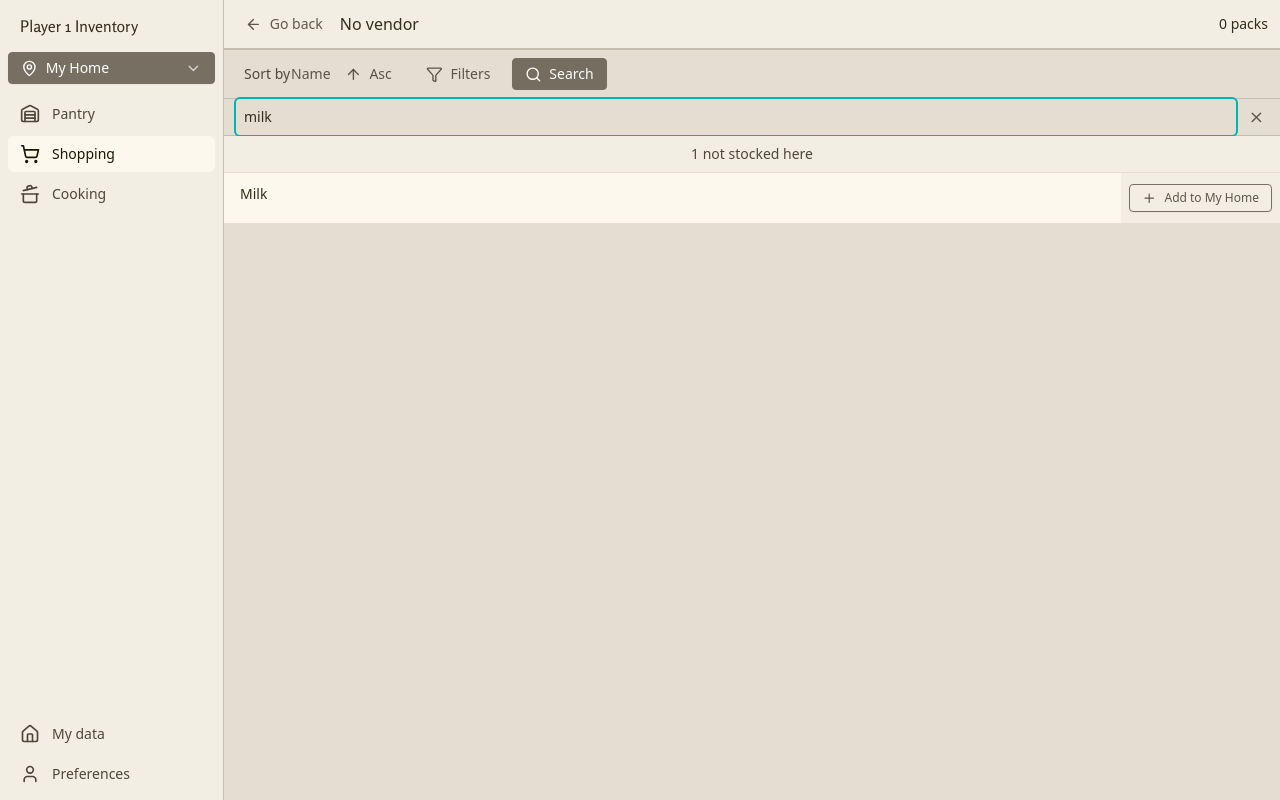
Scenario: Vendor cart page › search tail (unified item search) › user can stock a VENDORED item from the no-vendor cart and it lands in the not-in-this-list section
This screenshot has width=1280, height=800.
What coordinates should you click on to do the following:
click the button with aria-label "Add to My Home: Milk"
I would click on:
 (1201, 198)
Its box is [1129,184,1272,212].
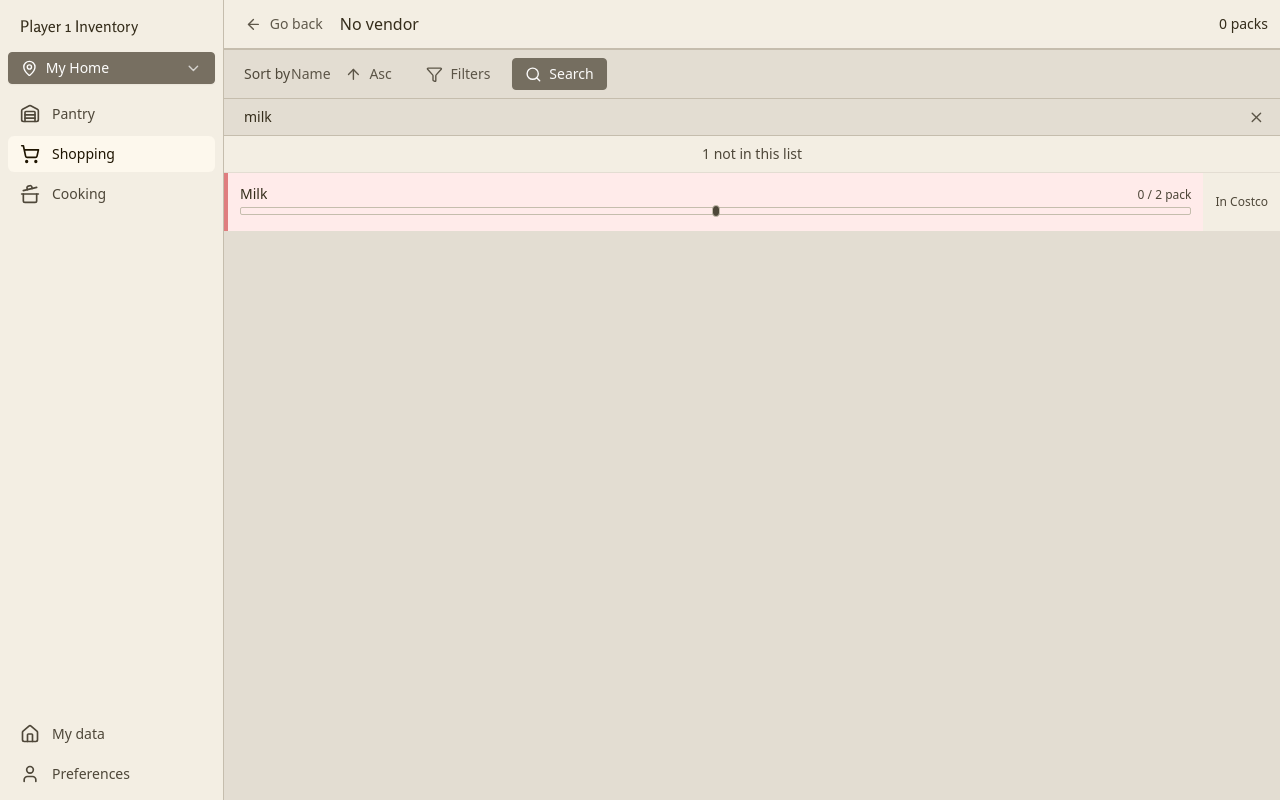
Result: the text "1 not in this list" is shown at [224,136,1279,172]
Result: the text "In Costco" is shown at [1215,193,1268,210]
Result: the text "not stocked here" is gone
